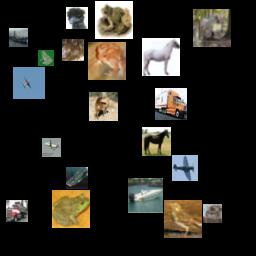airplane: (13, 67, 45, 99), (172, 155, 198, 181), (42, 138, 61, 157)
bird: (164, 200, 202, 238), (66, 7, 88, 29)
cat: (203, 204, 222, 223)
deer: (89, 92, 118, 121), (62, 39, 84, 61)
frog: (88, 42, 126, 80), (52, 190, 90, 228), (95, 1, 133, 39), (38, 50, 54, 66)
ship: (128, 178, 163, 213), (66, 167, 88, 189), (9, 28, 28, 47)
truck: (155, 88, 187, 120), (6, 200, 28, 222)
